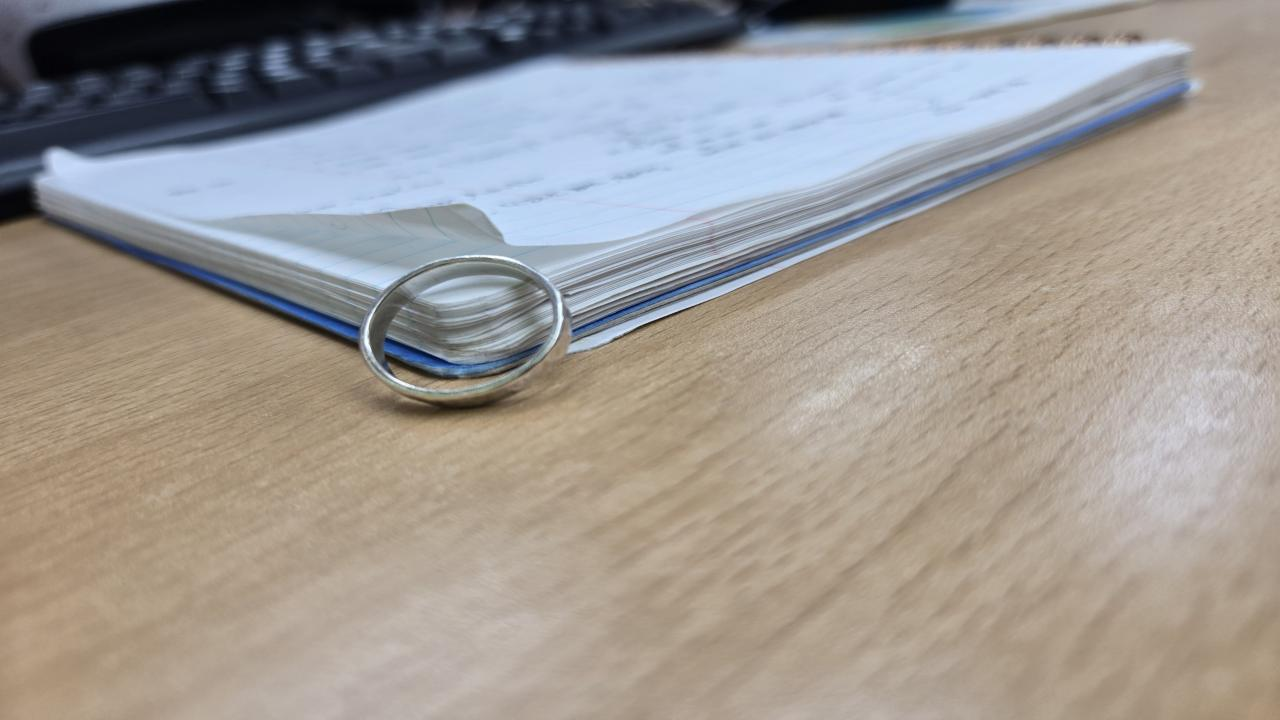ring: (359, 254, 574, 411)
